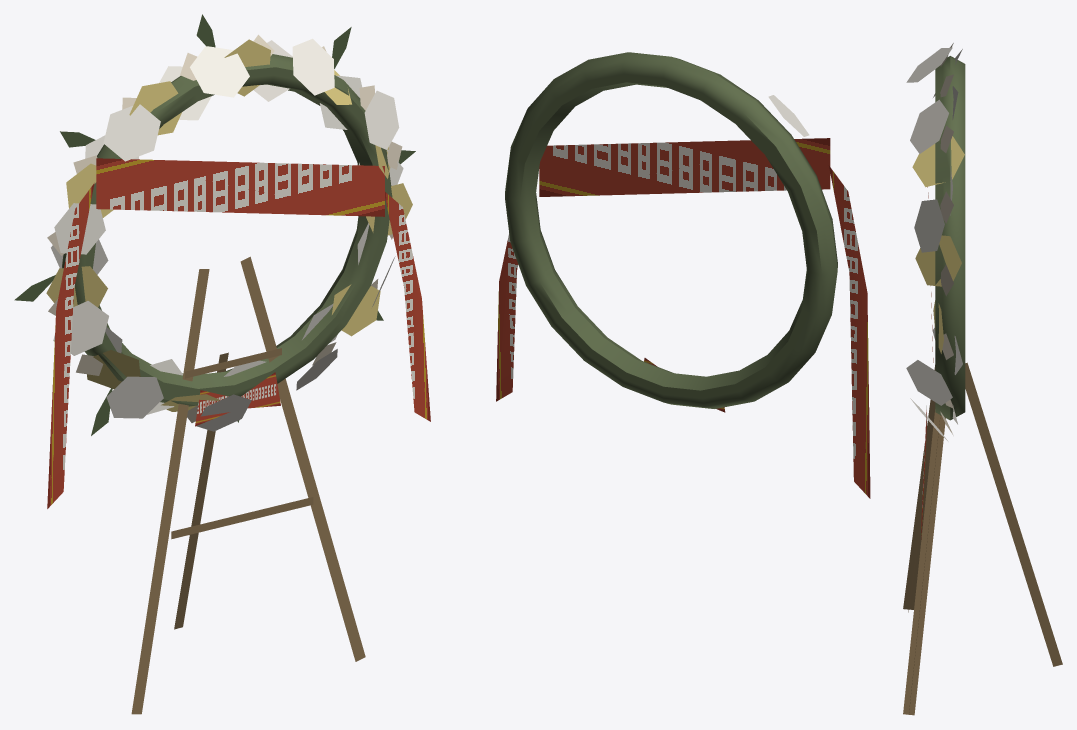
Rendered from VongHoaTang_1.glb.
3 renders of one model, left to right at view 1: azimuth 30°, elevation 25°; view 2: azimuth 150°, elevation 25°; view 3: azimuth 270°, elevation 25°, orthographic. The views are drawn at different scales.
Visible parts, largest first — view 1: VongHoaTang_1; view 2: VongHoaTang_1; view 3: VongHoaTang_1.
Boxes of the visible parts, box(x1,y1,x2,y2) form: VongHoaTang_1: box(14, 14, 430, 714); VongHoaTang_1: box(496, 52, 870, 498); VongHoaTang_1: box(903, 43, 1062, 715).
Size of the model in its own units: 1.08 by 1.68 by 0.3812.
Materials: 7 (1 with a texture image).
